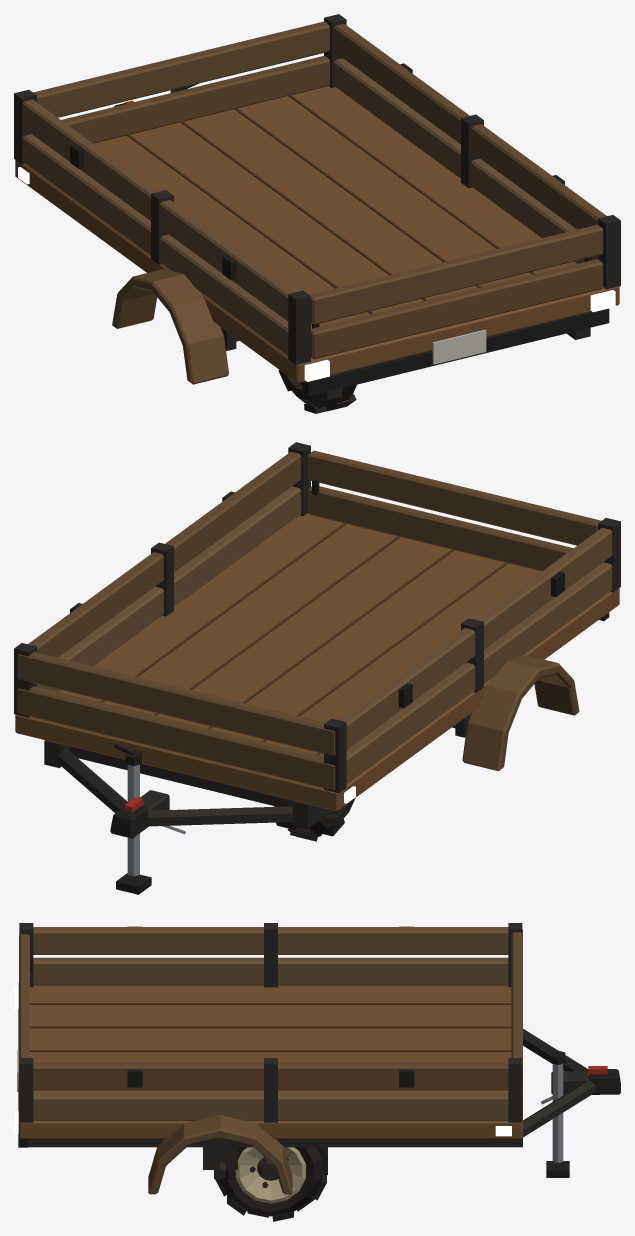
Rendered from PonyTrailer_Pickup.glb.
3 renders of one model, top to bottom at view 1: azimuth 30°, elevation 25°; view 2: azimuth 150°, elevation 25°; view 3: azimuth 270°, elevation 25°, orthographic. The views are drawn at different scales.
Visible parts, largest first — view 1: Bed, Body, Wheel, Lights; view 2: Bed, Body, Hitch, Wheel; view 3: Bed, Body, Wheel, Hitch, Lights.
Part boxes in pixels (x1,y1,x2,y2): Bed: (14,14,620,383); Body: (112,269,609,400); Wheel: (278,370,356,413); Lights: (18,167,615,381); Bed: (14,442,620,811); Body: (44,612,609,828); Hitch: (59,744,293,894); Wheel: (274,798,355,841); Bed: (18,923,522,1138); Body: (17,1010,522,1194); Wheel: (214,1147,327,1221); Hitch: (523,1029,620,1177); Lights: (14,986,511,1136).
Bounding box in the file's own units: 10.31 × 6.31 × 15.64.
